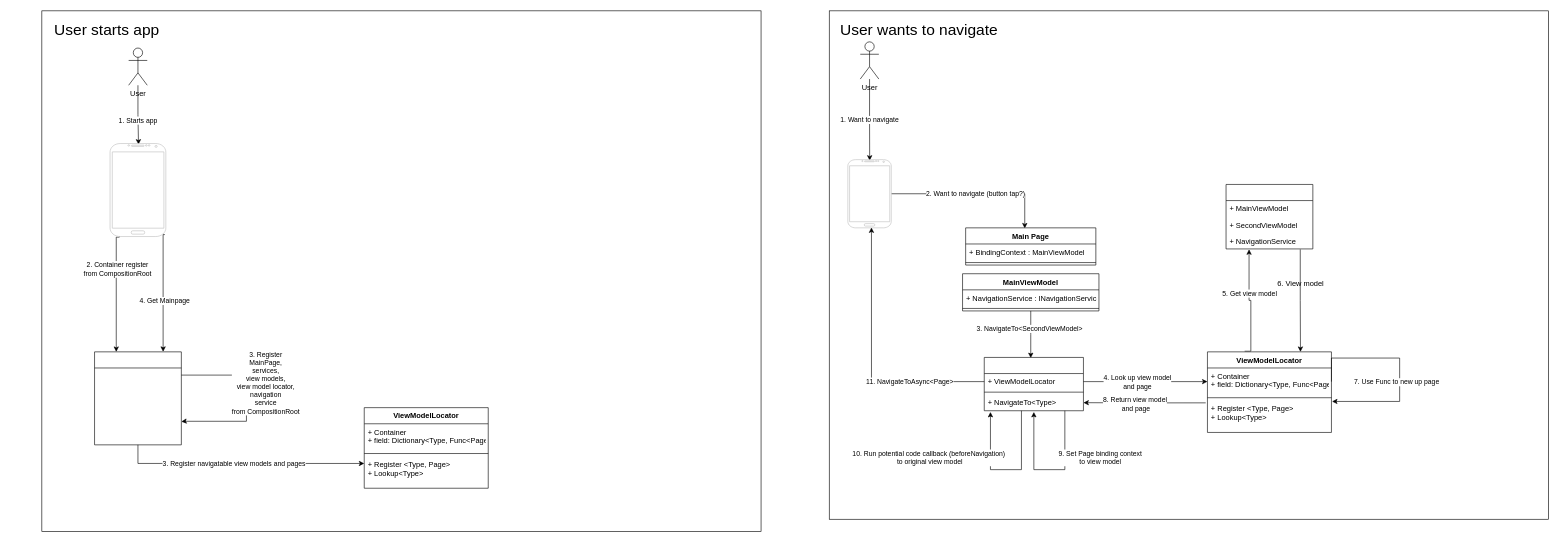
Image size: 1559x543. Some labels were removed from this diagram. Here are the shapes that lost their labels. From the top down, the box of each, then its label:
(1225, 184, 1313, 249): Container
(94, 351, 181, 445): CompositionRoot
(984, 357, 1083, 411): NavigationService
